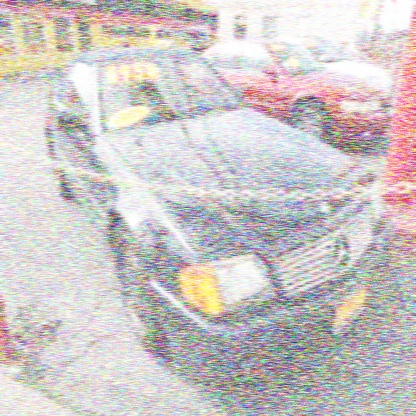Vehicle: (44, 51, 396, 392)
